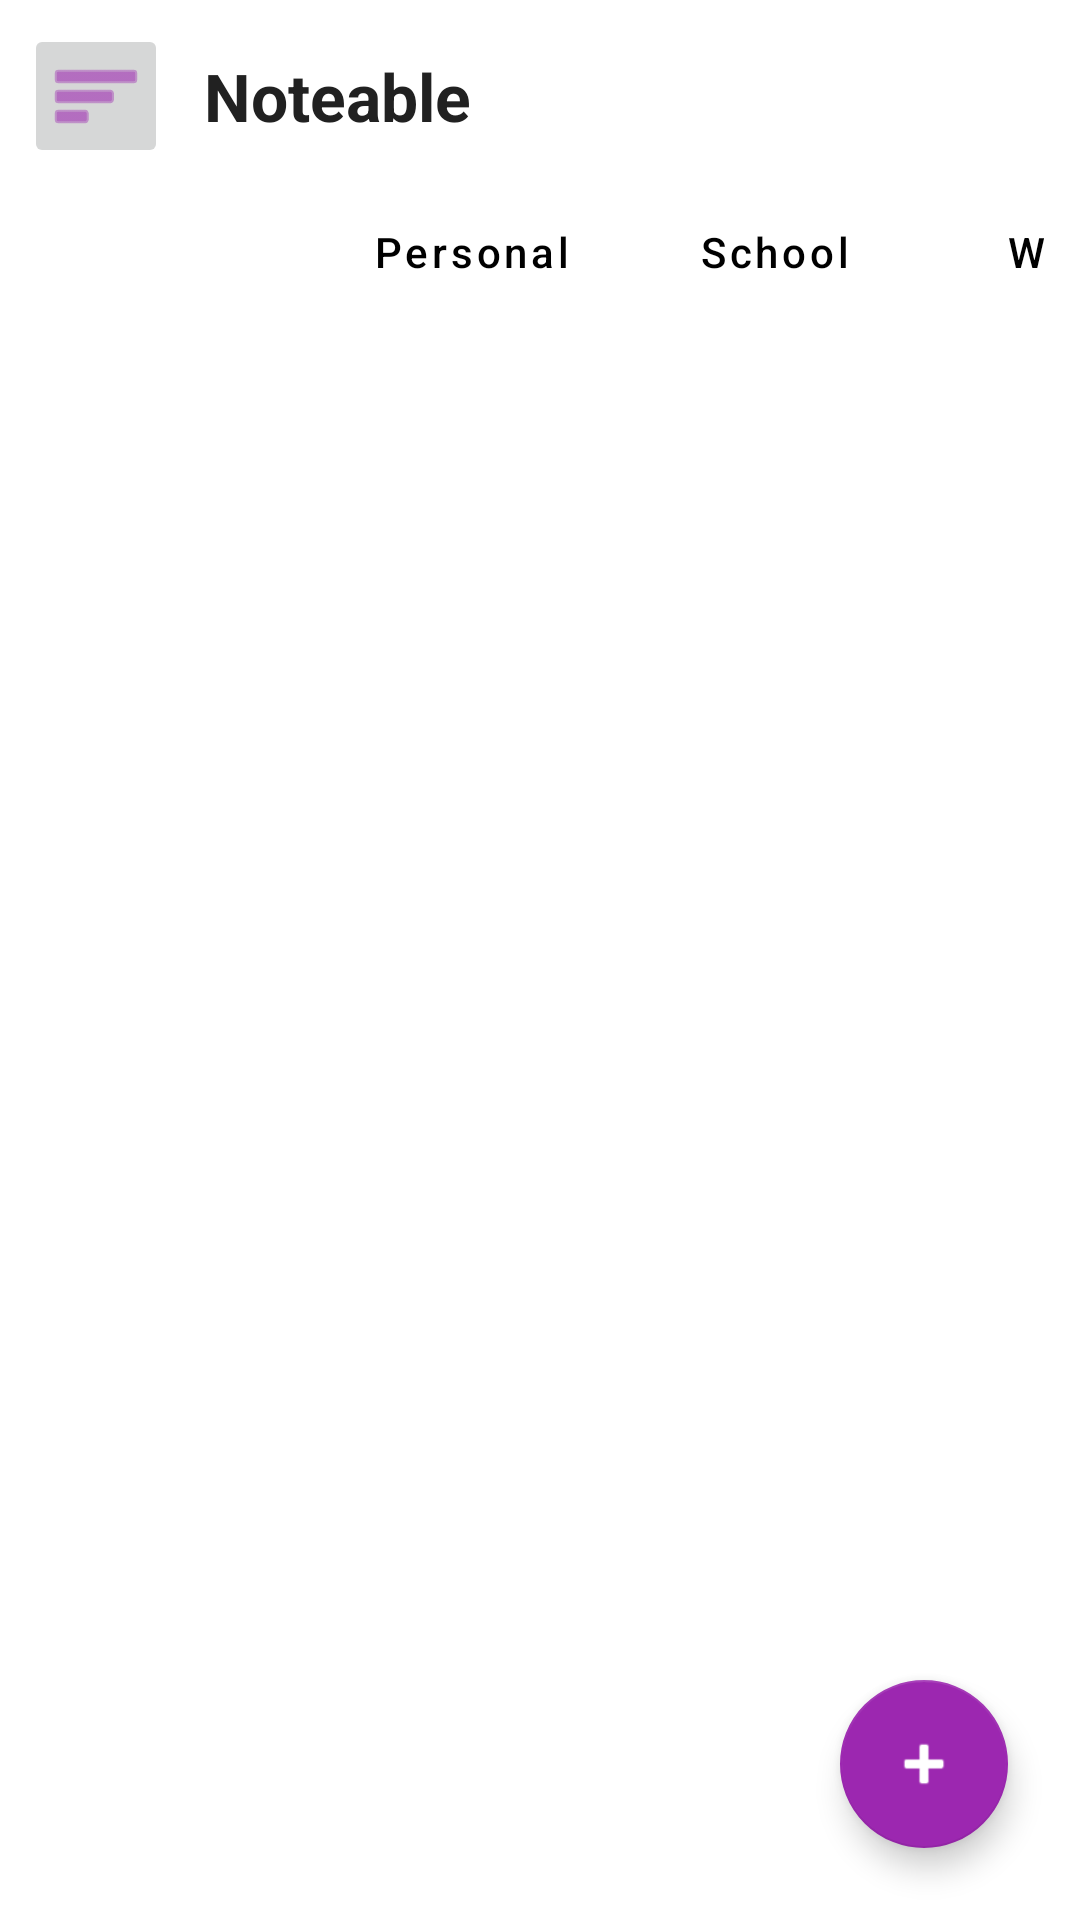

Where icons sit on this 1080*1920 app screen, as BBox(x1, y1, x2, y2):
Add Note: BBox(840, 1680, 1008, 1848)
Menu: BBox(36, 42, 156, 150)
